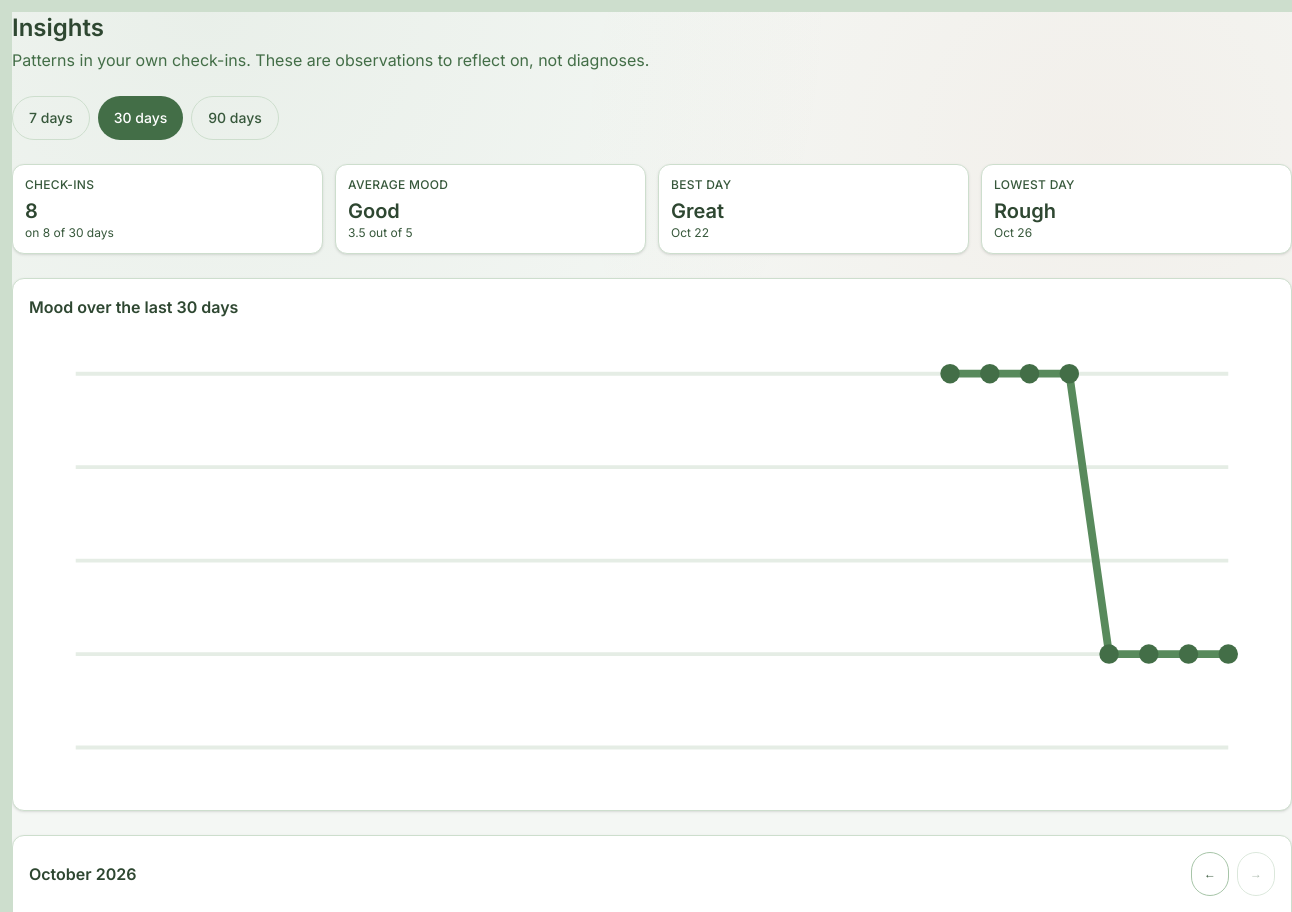
Test: Insights page › navigates months, but not into the future
expect the button named "next month" is disabled: met, box [1237,852,1275,896]
Click the button named "previous month": (1210,874) [1191,852,1229,896]
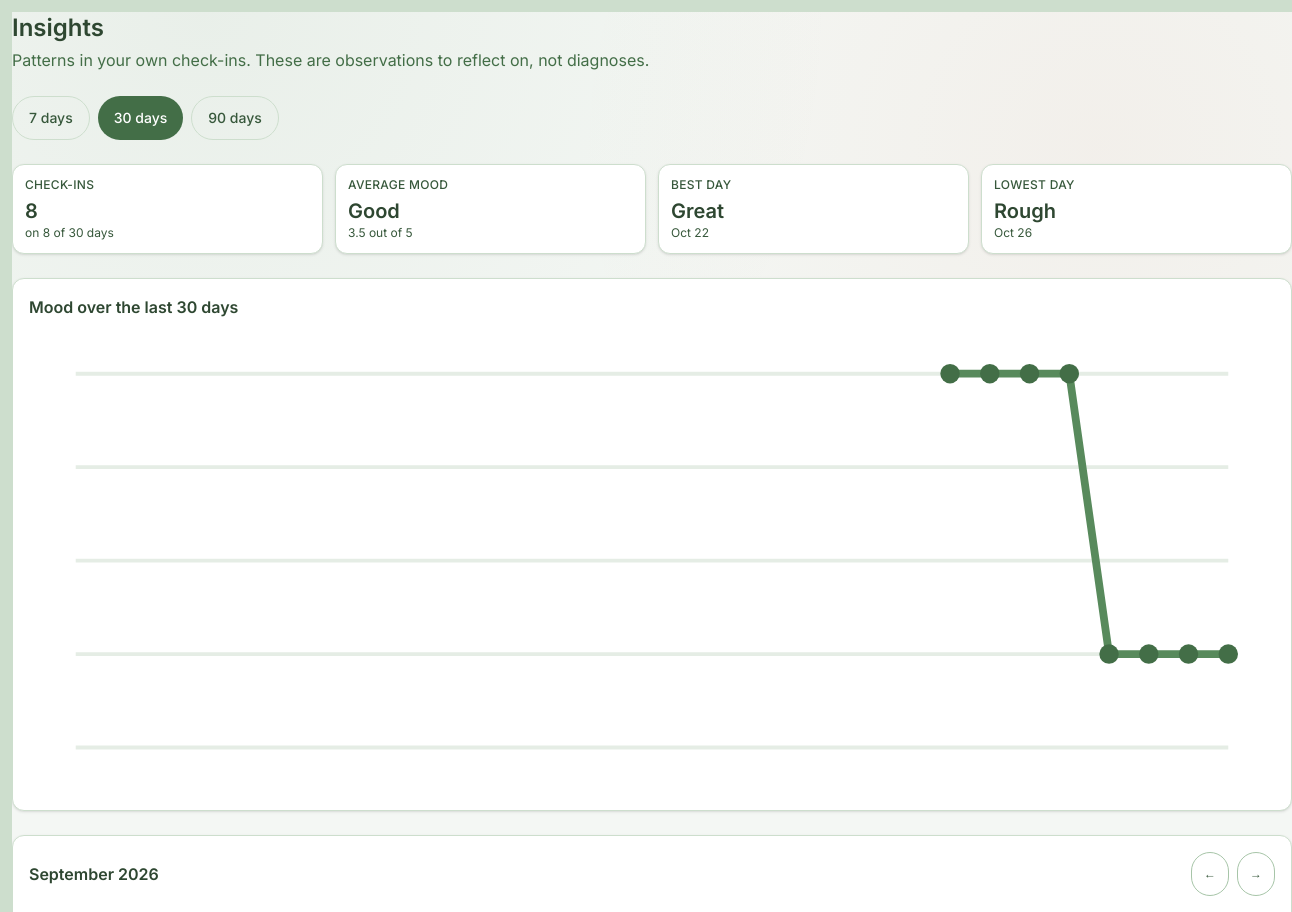
expect the button named "next month" is enabled: met, box [1237,852,1275,896]
